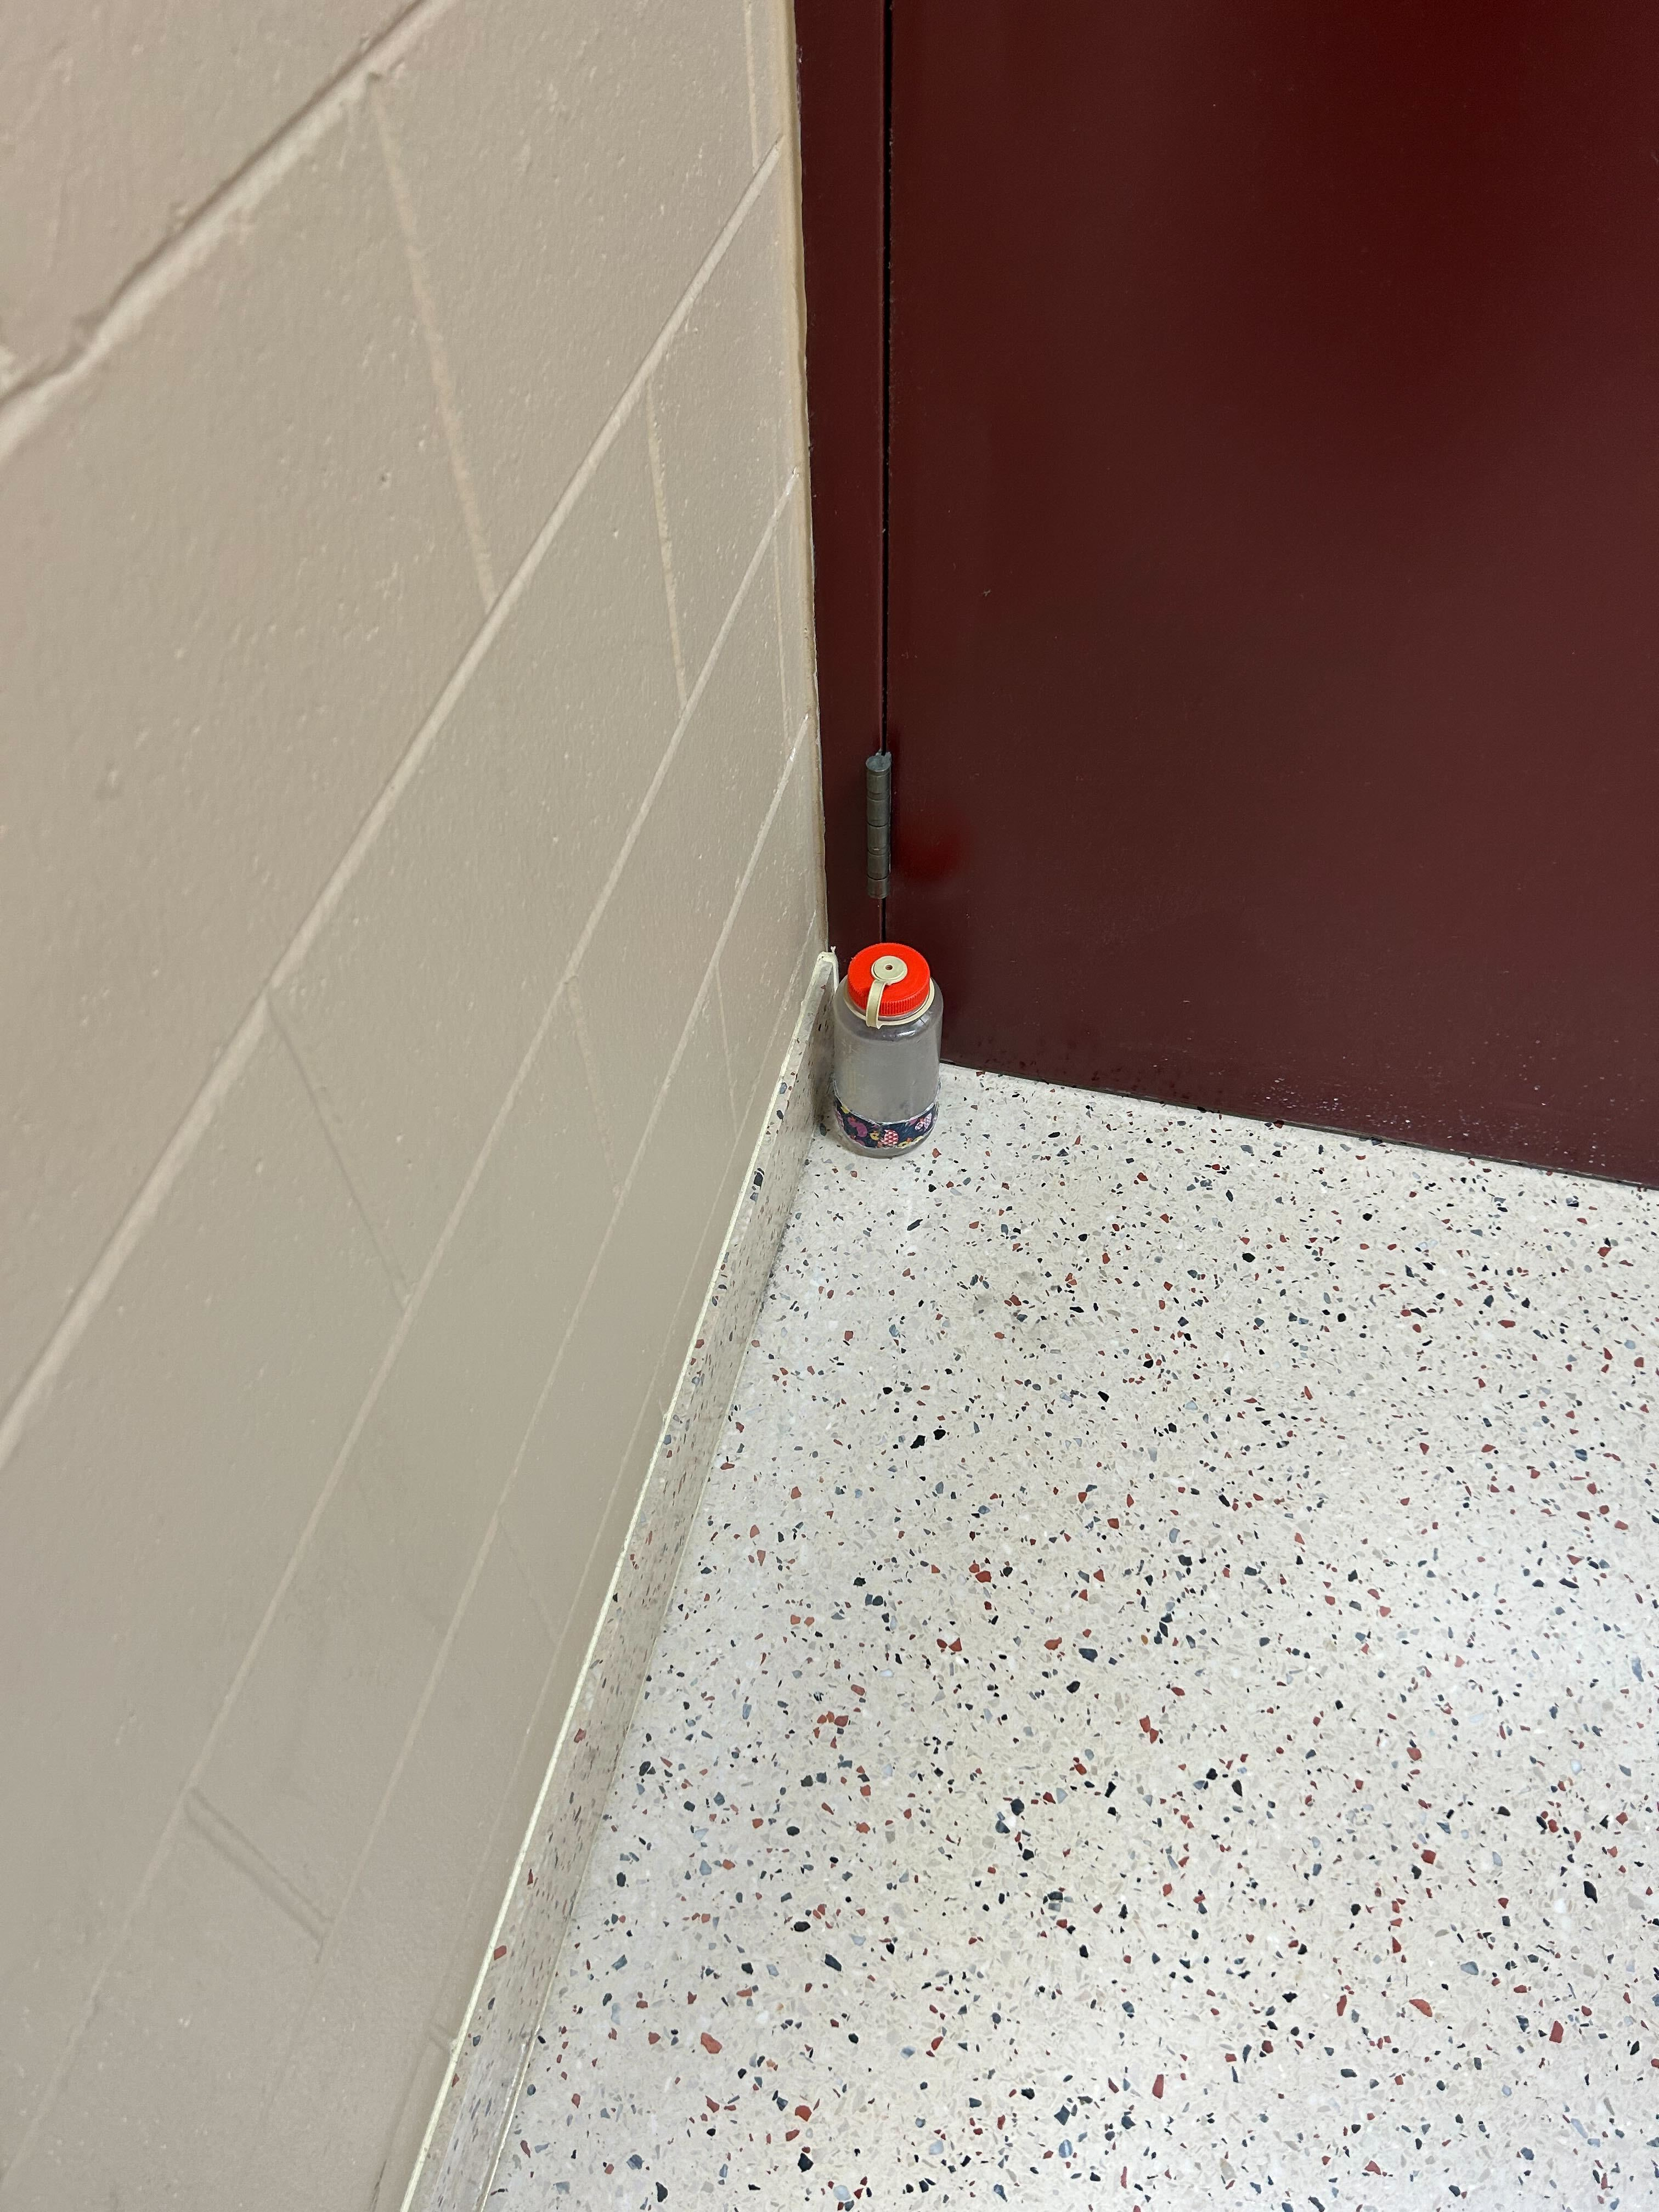bottle: (826, 932, 945, 1163)
